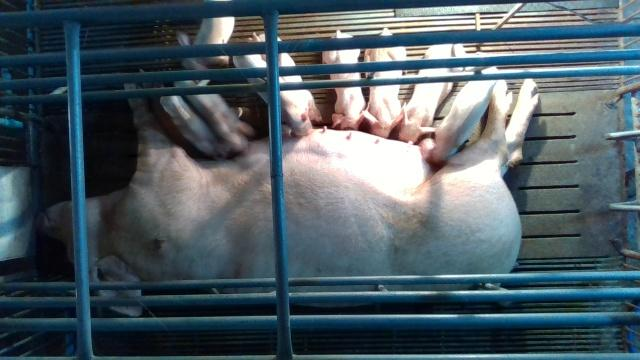piglet: (397, 42, 465, 144), (420, 81, 497, 166), (253, 32, 323, 125), (233, 55, 312, 136), (175, 80, 255, 150), (320, 30, 367, 130), (363, 27, 405, 138), (161, 95, 229, 160), (174, 0, 236, 69)
sow-sleep-lactate: (35, 78, 535, 315)
